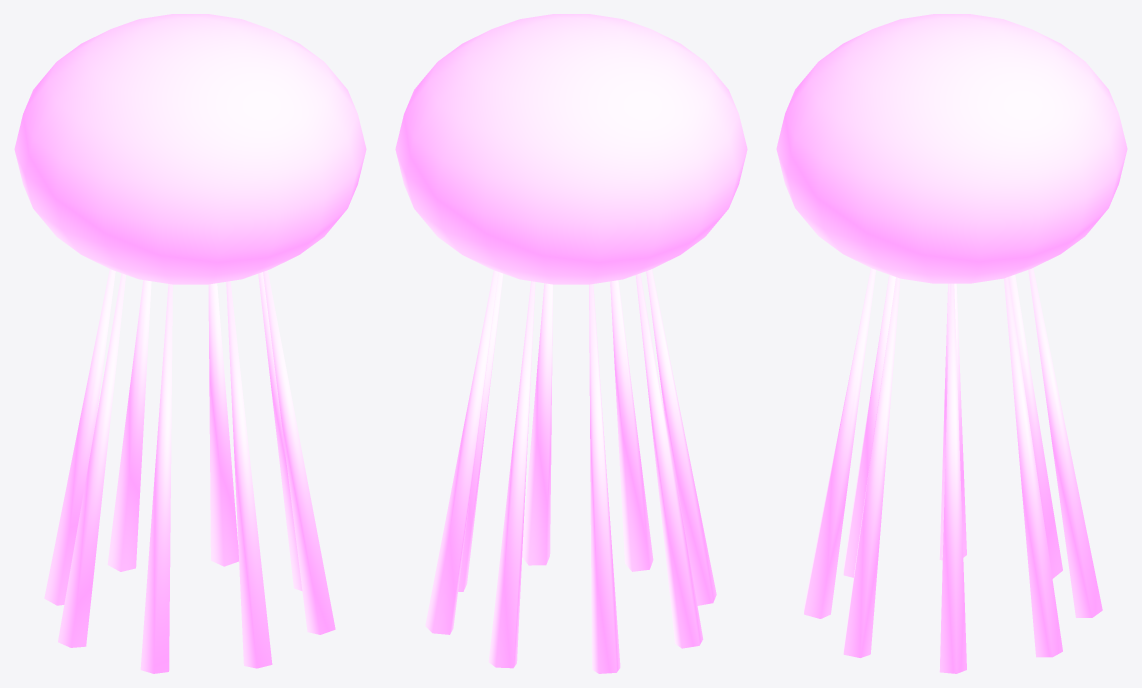
Rendered from pet_jelly.glb.
The picture shows the model from 3 angles, left to right: view 1: azimuth 30°, elevation 25°; view 2: azimuth 150°, elevation 25°; view 3: azimuth 270°, elevation 25°; orthographic projection.
Visible parts, largest first — view 1: pet_jelly; view 2: pet_jelly; view 3: pet_jelly.
Boxes of the visible parts, left/top/right/bottom form: pet_jelly: left=14, top=14, right=366, bottom=673; pet_jelly: left=395, top=14, right=747, bottom=673; pet_jelly: left=776, top=14, right=1127, bottom=673.
Size of the model in its own units: 0.6894 by 1.27 by 0.7.
